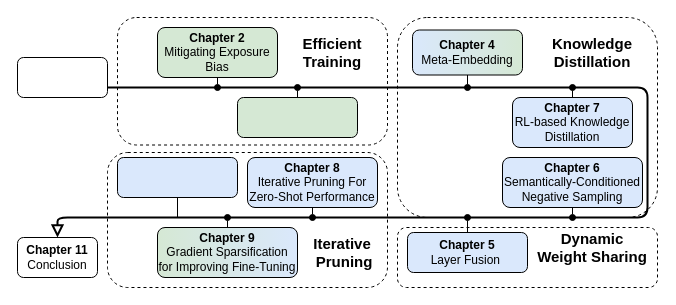
The diagram is 676 pixels wide and 305 high, and some of its shapes have lost their labels. Here are the shapes that lost their labels. From the top down, the centre of each, then its label:
(62,77): Chapter 1 Introduction
(297,117): Chapter 3 Error-Correcting Output Codes
(177,177): Chapter 10 Self-Distilled Pruning
